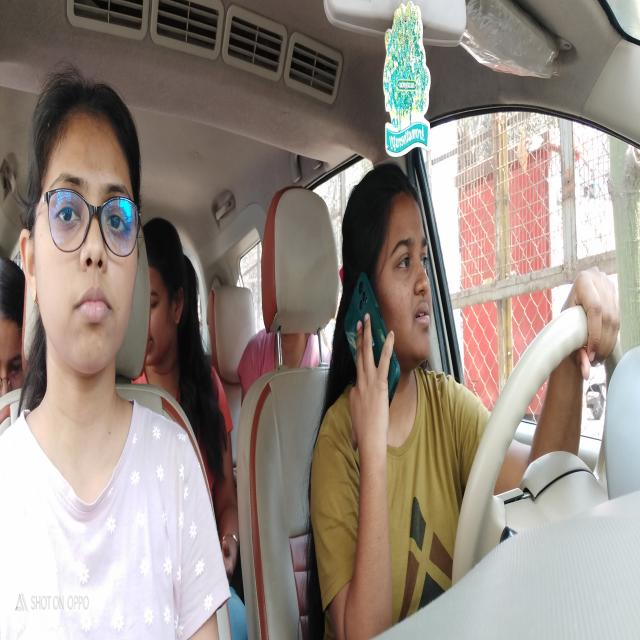mobile: (340, 278, 405, 397)
person: (23, 53, 148, 388), (350, 150, 446, 387), (148, 206, 199, 396)
